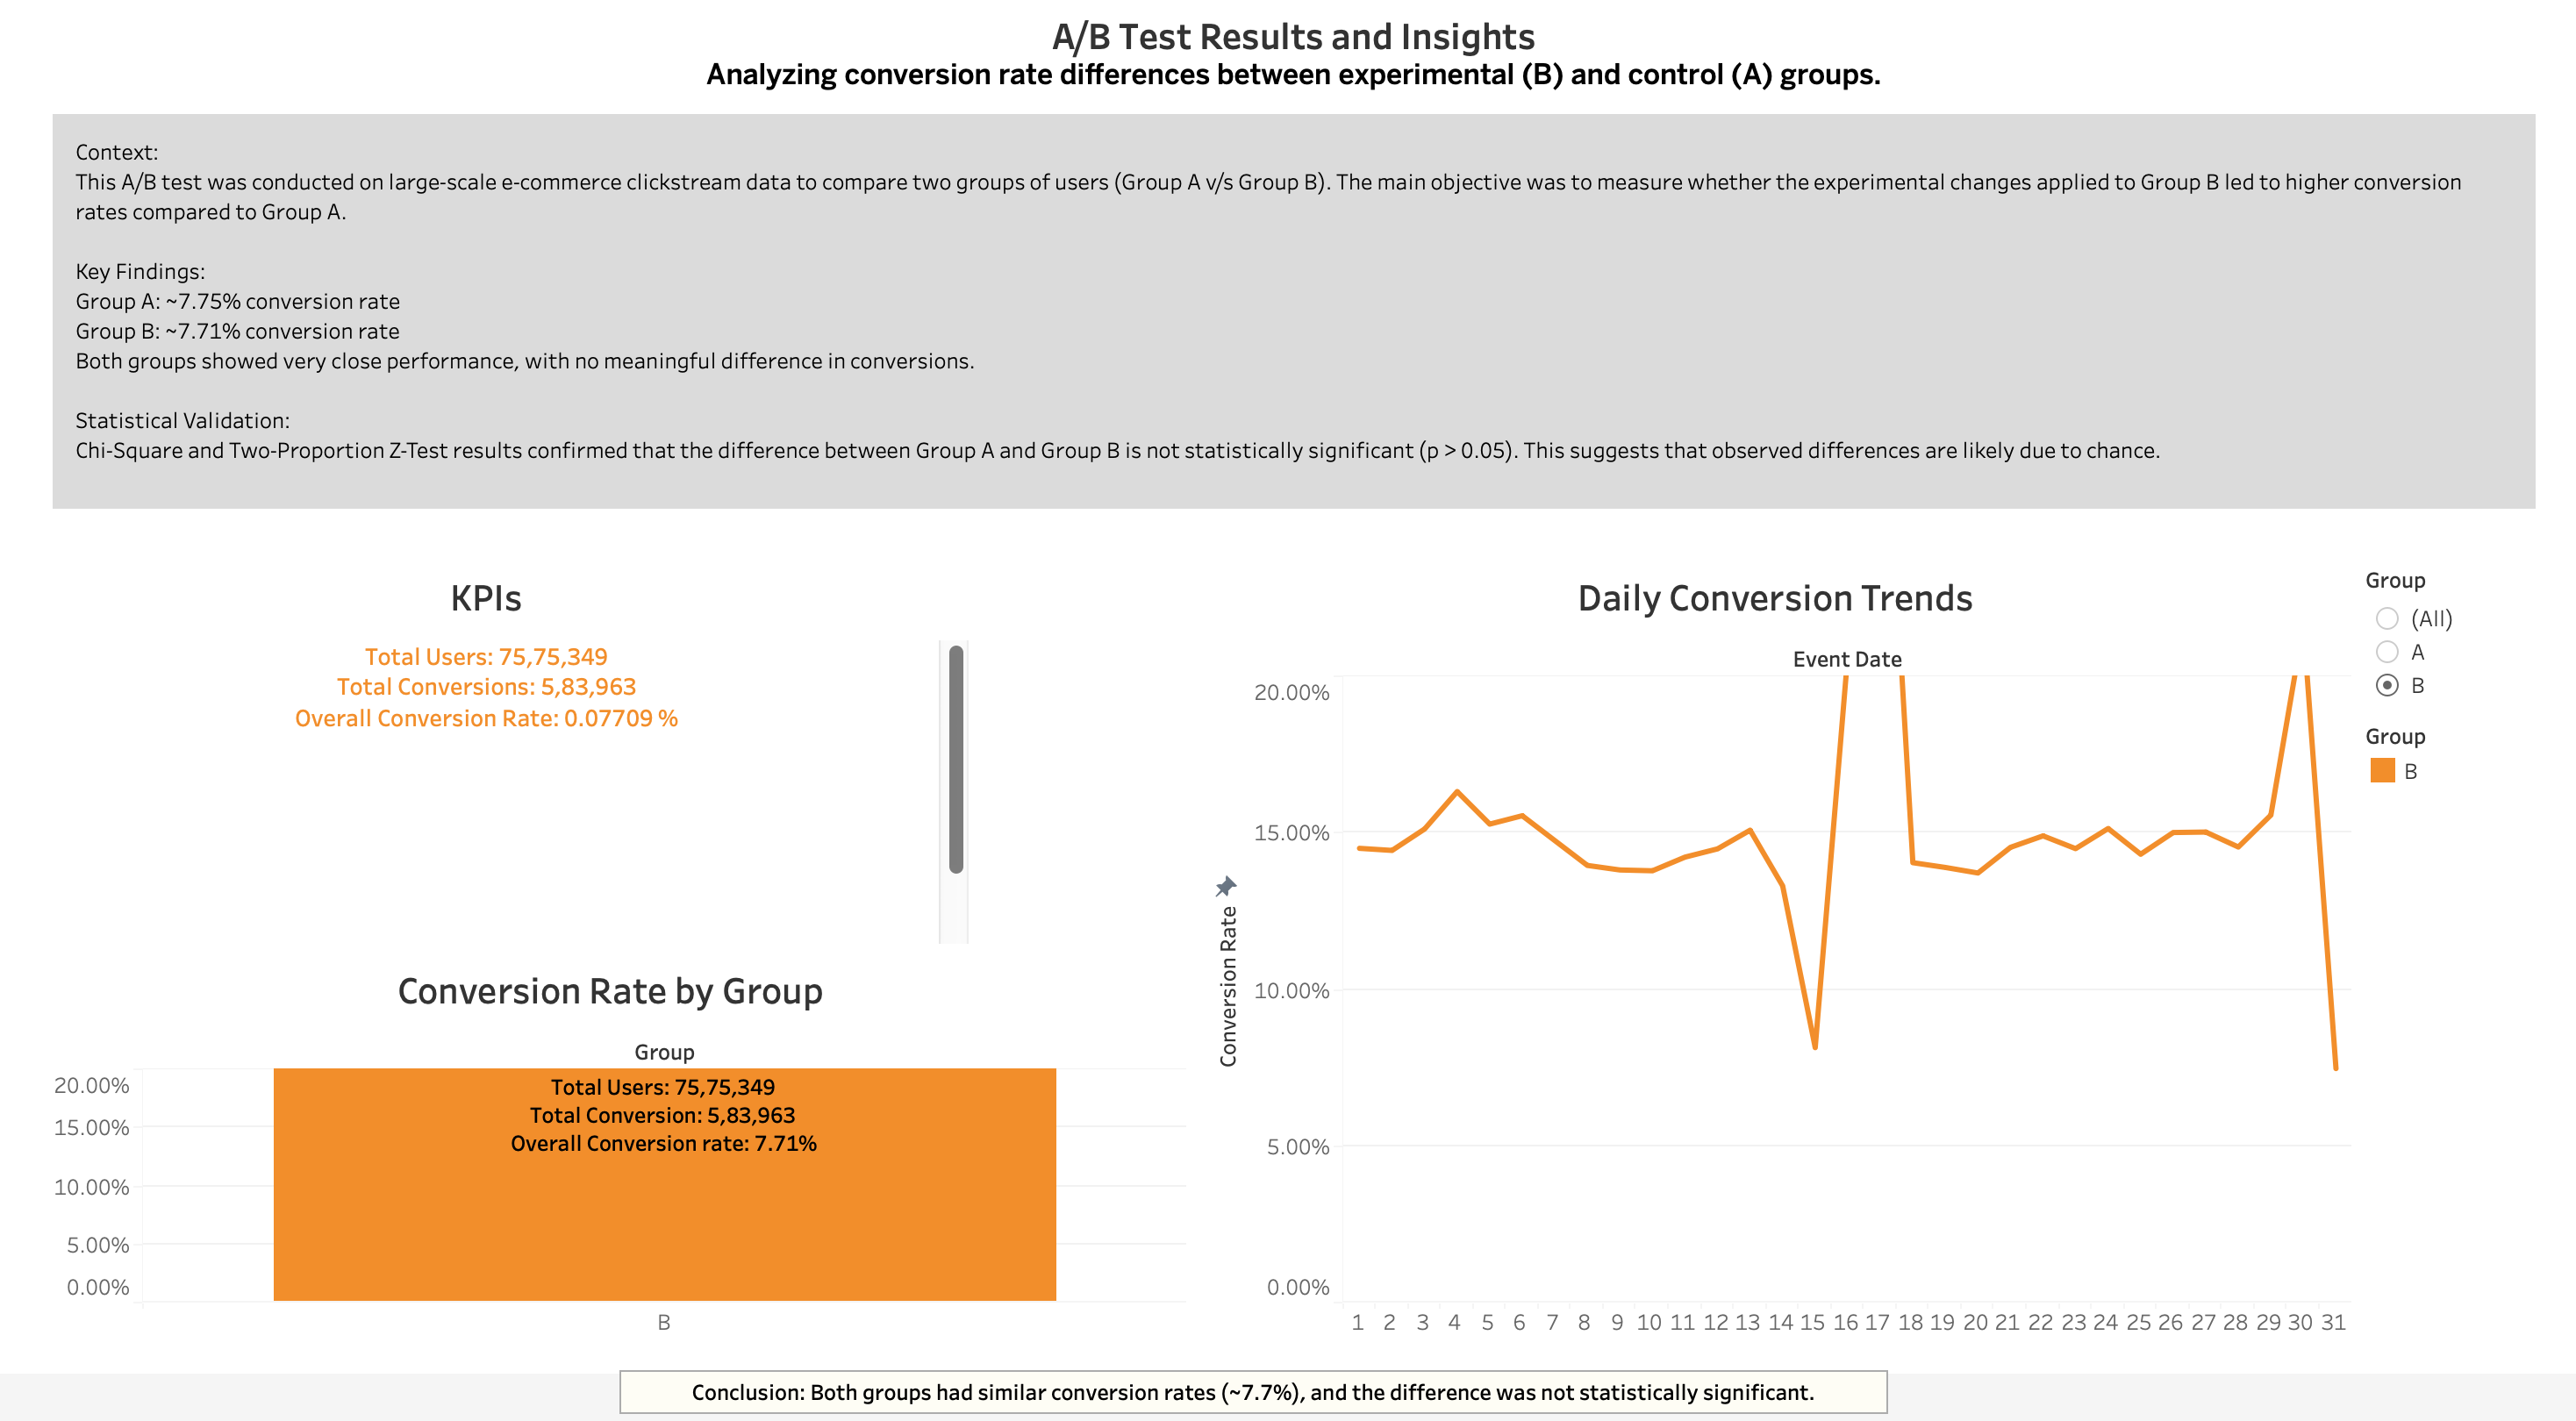

The page's visual inventory and layout, read from the dashboard file:
{"tool":"tableau","page":{"name":"Conversion Rate Analysis – A vs B","canvas":[1450,465],"ordinal":0},"visuals":[{"type":"worksheet","title":"KPIs","mark":"Automatic","box":[8,8,664,224]},{"type":"worksheet","title":"Daily Conversion Trends","mark":"Automatic","rows":["conversion_rate"],"cols":["event_date"],"box":[672,8,664,449]},{"type":"filter","title":"Daily Conversion Trends","param":"[federated.10rce5p1lybrzi1gsy49z05vx2qw].[none:group:nk]","box":[1336,8,106,89]},{"type":"legend","title":"Conversion Rate by Group","param":"[federated.10rce5p1lybrzi1gsy49z05vx2qw].[none:group:nk]","box":[1336,97,106,66]},{"type":"worksheet","title":"Conversion Rate by Group","mark":"Automatic","rows":["conversion_rate"],"cols":["group"],"box":[8,232,664,225]}]}

Visuals, with their boxes on the page's 1450x465 design canvas (x1, y1, x2, y2). These are canvas units, not pixel positions in the 2576x1421 screenshot, which may show the page scaled, cropped or inside an application window:
"KPIs" worksheet: <region>8, 8, 672, 232</region>
"Daily Conversion Trends" worksheet: <region>672, 8, 1336, 457</region>
"Daily Conversion Trends" filter: <region>1336, 8, 1442, 97</region>
"Conversion Rate by Group" legend: <region>1336, 97, 1442, 163</region>
"Conversion Rate by Group" worksheet: <region>8, 232, 672, 457</region>
